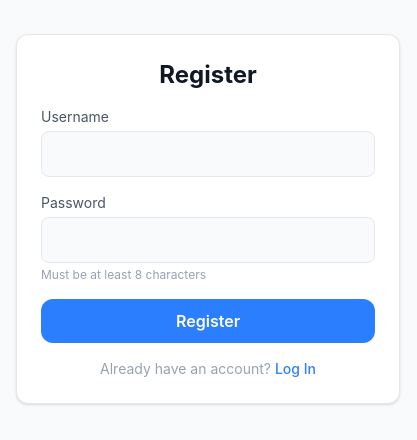
Scenario: Register › catches a short password with the Zod backstop at submit
Step 1. Type "alice" into the field labelled "Username" → x=208, y=154, box [41, 131, 375, 177]
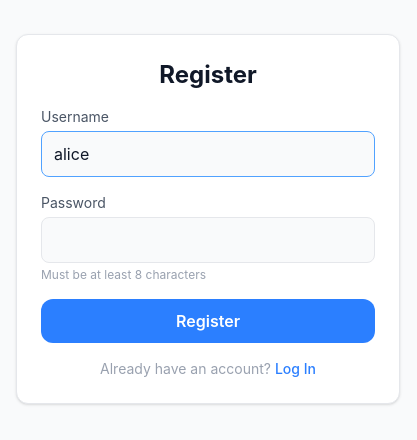
Step 2. Type "short" into the password field labelled "Password" → x=208, y=240, box [41, 217, 375, 263]
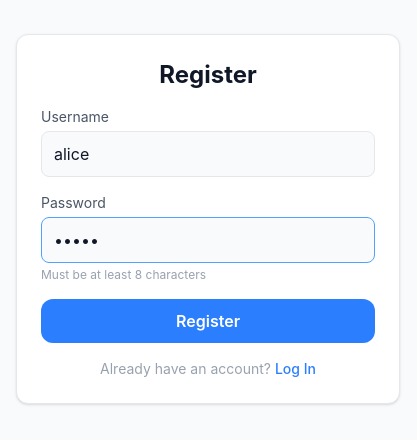
Step 3. Click the button "Register" → x=208, y=321, box [41, 299, 375, 343]
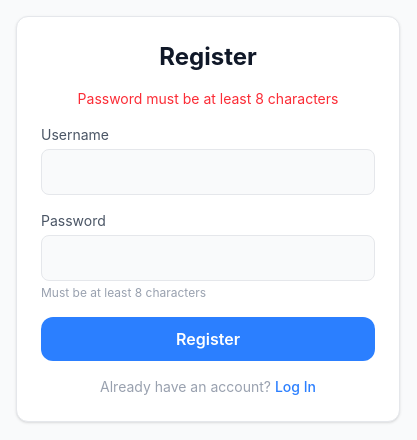
Check: the text "Password must be at least 8 characters" is shown, box [78, 90, 338, 107]
